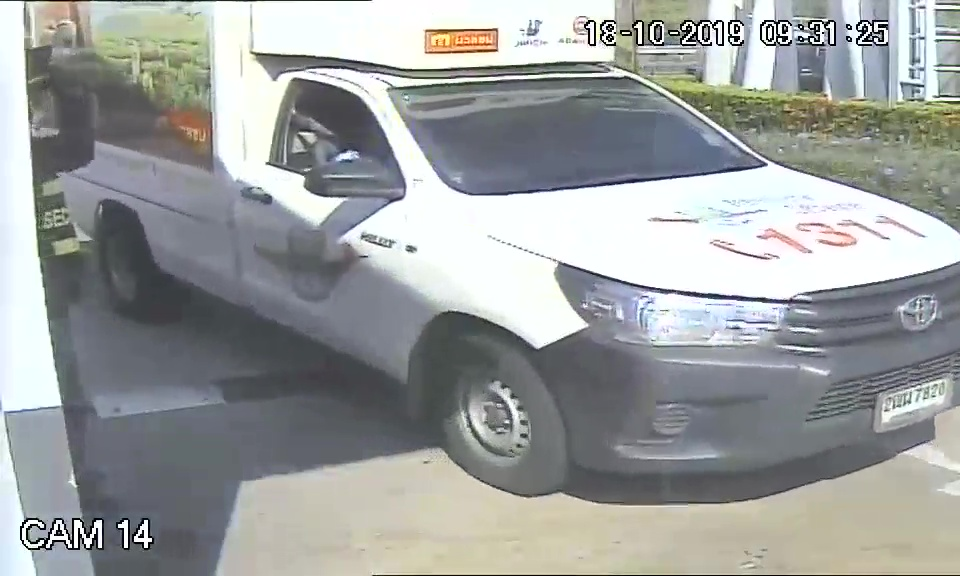pickup: (65, 51, 960, 496)
